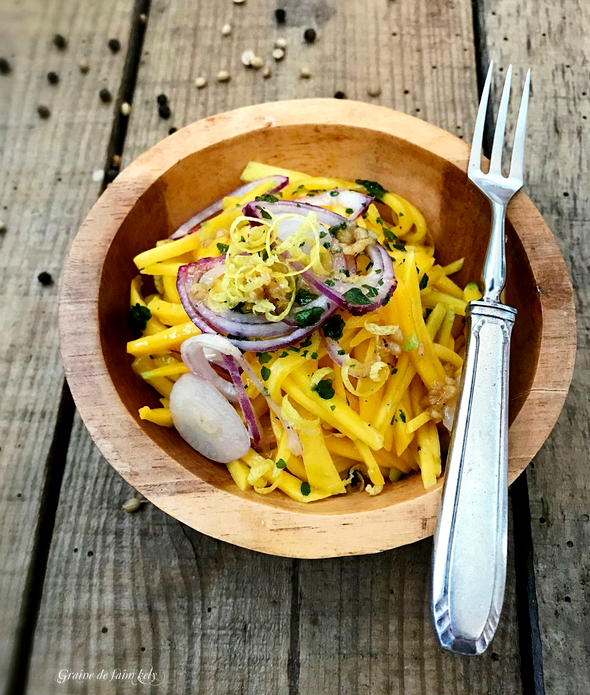mangue: (295, 377, 361, 496)
oignon: (179, 376, 238, 459)
zeste de citron: (237, 220, 275, 303)
